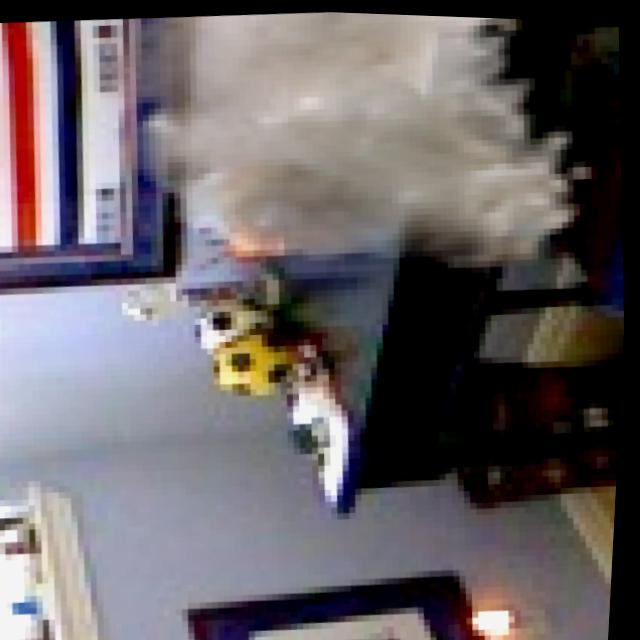smoke: (57, 2, 611, 300)
